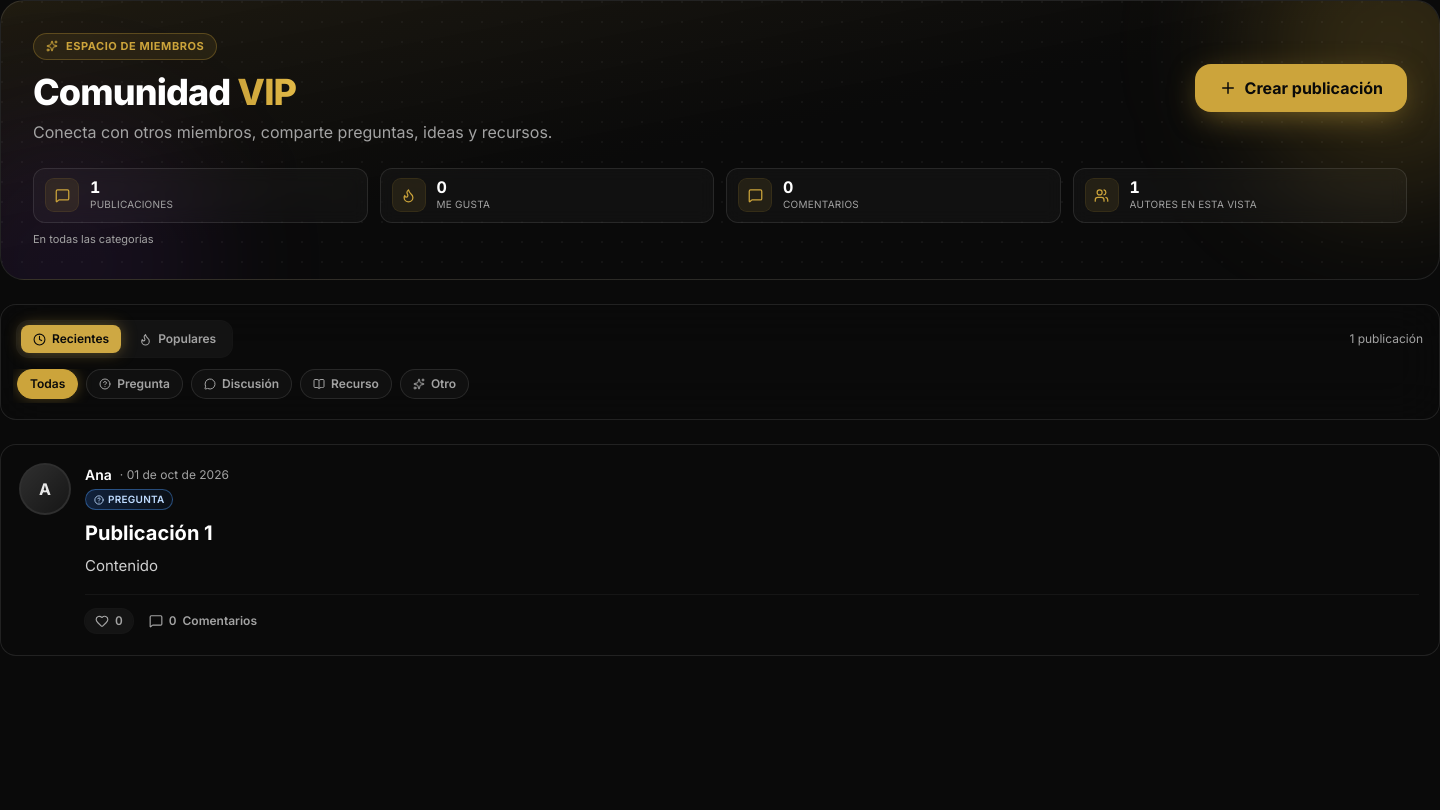
Scenario: CommunityFeed › la tarjeta se abre con el teclado desde el título
What coordinates should you click on to do the following:
click the button "Publicación 1"
I would click on:
 (149, 534)
Its box is [85,520,213,548].
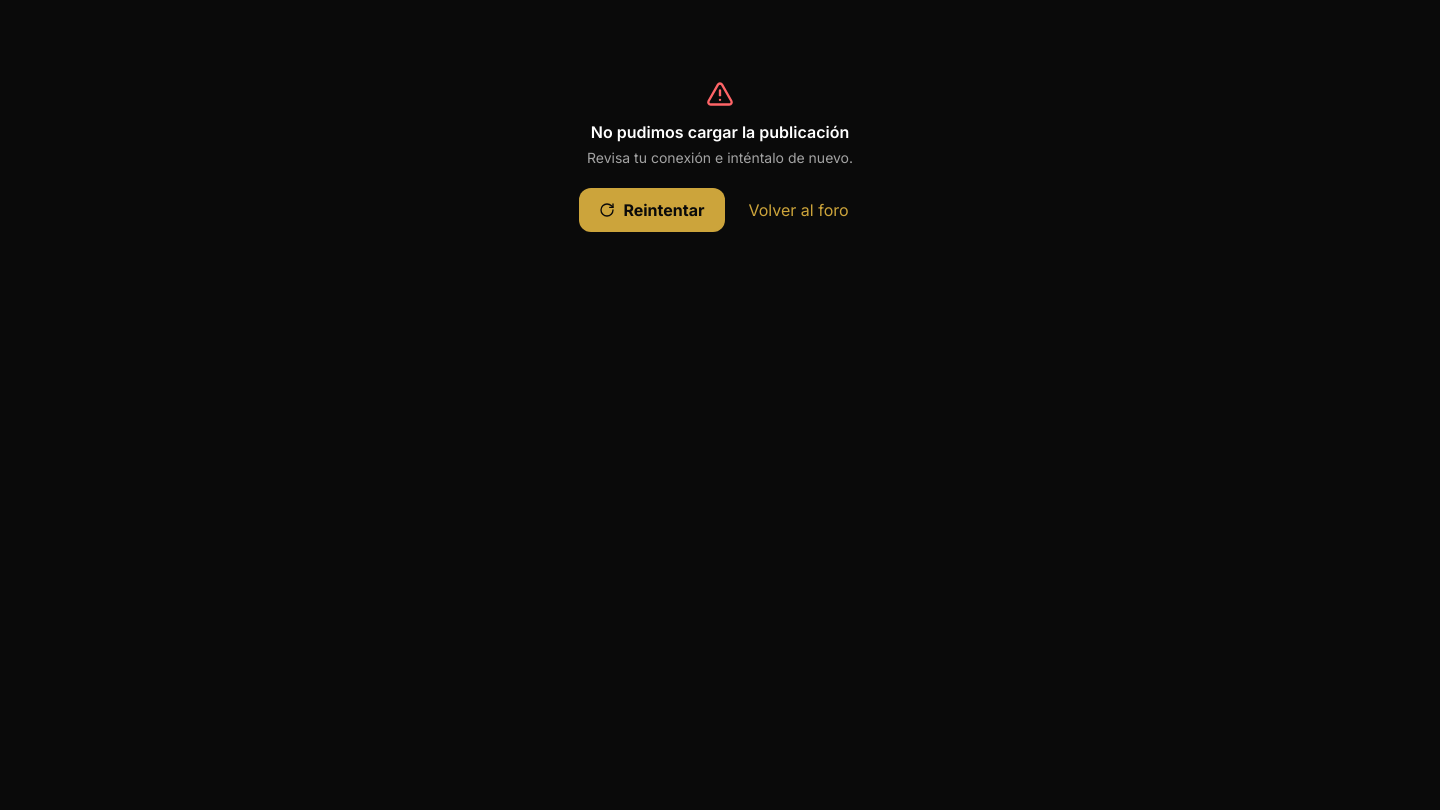
Expected: the button "Volver al foro" is shown, [736,188,861,232]
